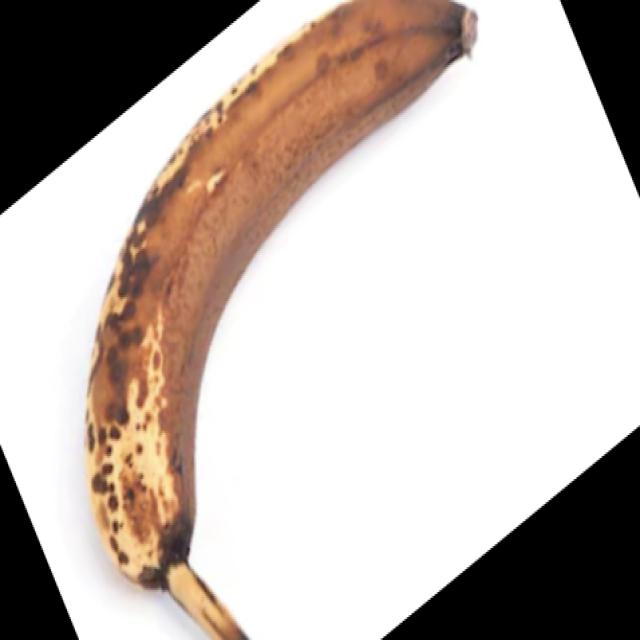overripe: (79, 2, 478, 640)
